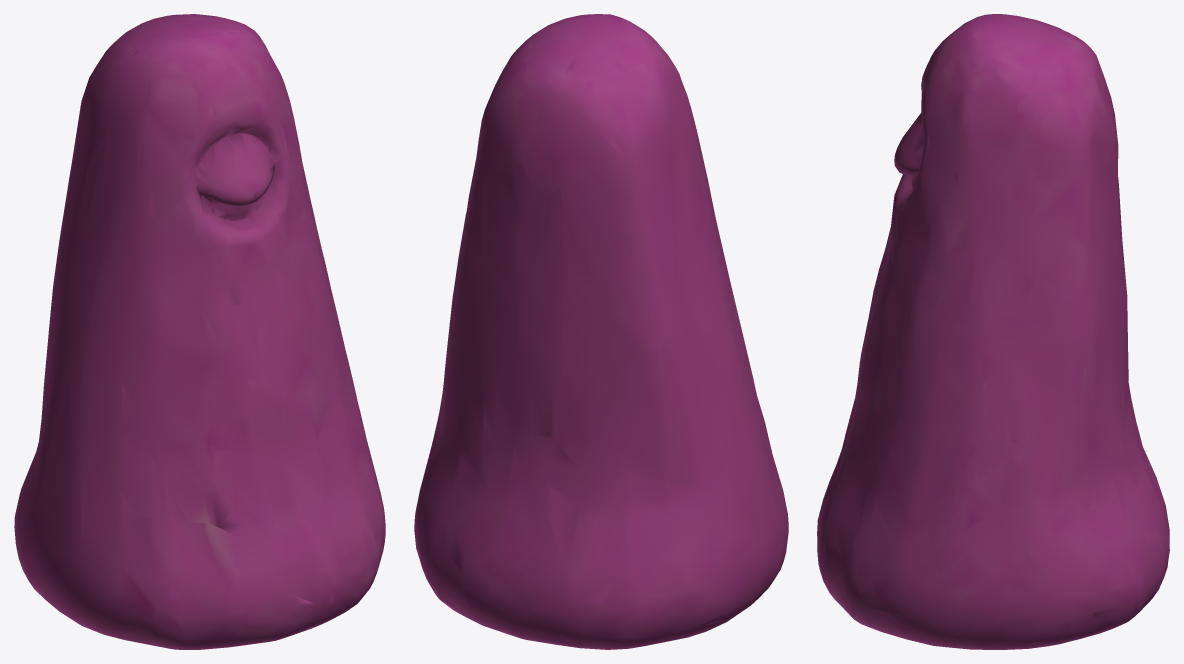
The model's file is gate_pillar.glb.
3 views of the same model, side by side, from view 1: azimuth 30°, elevation 25°; view 2: azimuth 150°, elevation 25°; view 3: azimuth 270°, elevation 25° (orthographic).
Visible parts, largest first — view 1: geometry_0; view 2: geometry_0; view 3: geometry_0.
Boxes of the visible parts, x1,y1,x2,y2 form: geometry_0: (14, 14, 385, 649); geometry_0: (414, 14, 788, 649); geometry_0: (817, 14, 1169, 649).
Bounding box in the file's own units: 1.12 × 1.9 × 1.08.
